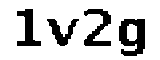1: (13, 6, 44, 52)
2: (82, 5, 115, 53)
g: (117, 16, 148, 60)
v: (46, 14, 80, 47)
